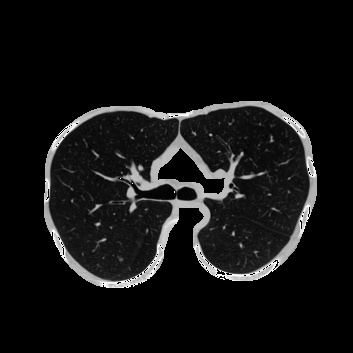PN: (118, 257, 122, 261)
